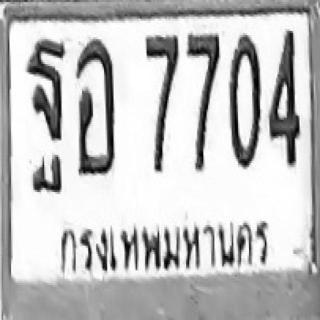A16: (26, 36, 68, 197)
A43: (72, 34, 116, 177)
N00: (228, 32, 261, 168)
N04: (267, 28, 300, 166)
N07: (144, 33, 179, 169), (186, 32, 221, 168)
P04: (47, 207, 280, 285)
